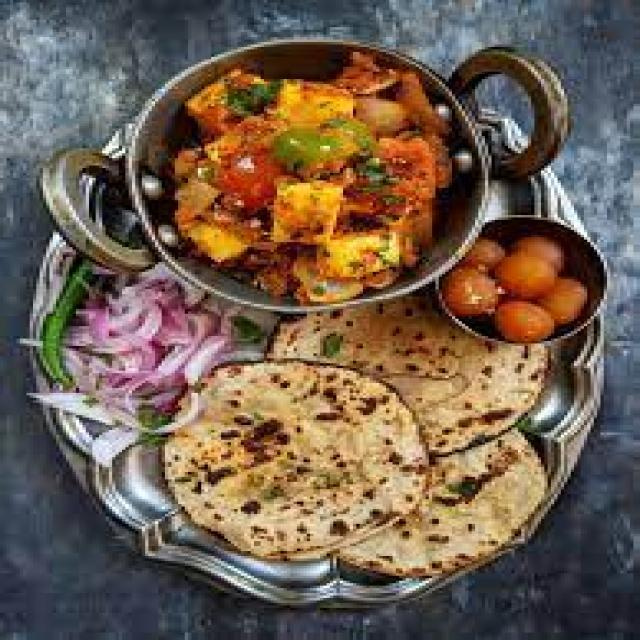papad: (185, 292, 574, 560), (249, 290, 494, 395)
roti: (210, 293, 569, 555)
sweet: (425, 211, 611, 345)
